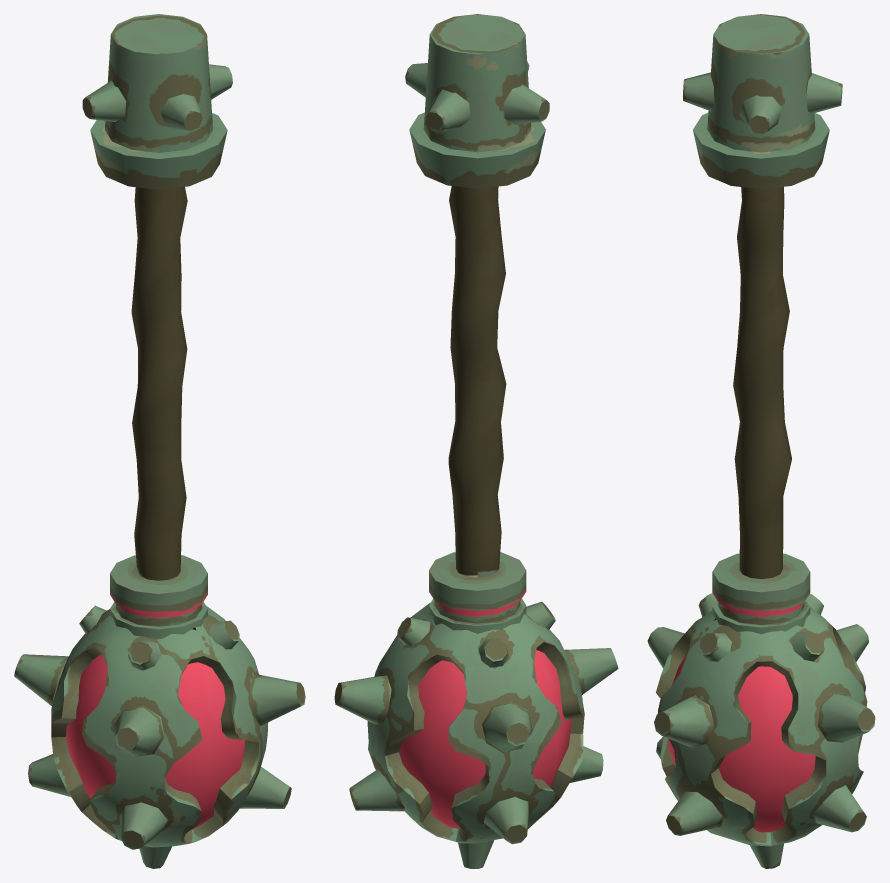
The model's file is FROG_WEAPONMESH.fbx.
The picture shows the model from 3 angles, left to right: view 1: azimuth 30°, elevation 25°; view 2: azimuth 150°, elevation 25°; view 3: azimuth 270°, elevation 25°; orthographic projection.
Parts seen in each view (by area): view 1: weaponBase_swampWeaponTex, glowSphere_swampWeaponTex; view 2: weaponBase_swampWeaponTex, glowSphere_swampWeaponTex; view 3: weaponBase_swampWeaponTex, glowSphere_swampWeaponTex.
Boxes of the visible parts, bbox=[...] form: weaponBase_swampWeaponTex: bbox=[14, 14, 305, 868]; glowSphere_swampWeaponTex: bbox=[66, 654, 245, 829]; weaponBase_swampWeaponTex: bbox=[334, 14, 618, 868]; glowSphere_swampWeaponTex: bbox=[399, 650, 571, 828]; weaponBase_swampWeaponTex: bbox=[647, 14, 875, 868]; glowSphere_swampWeaponTex: bbox=[668, 652, 815, 832].
Size of the model in its own units: 1.18 by 1.18 by 4.76.
